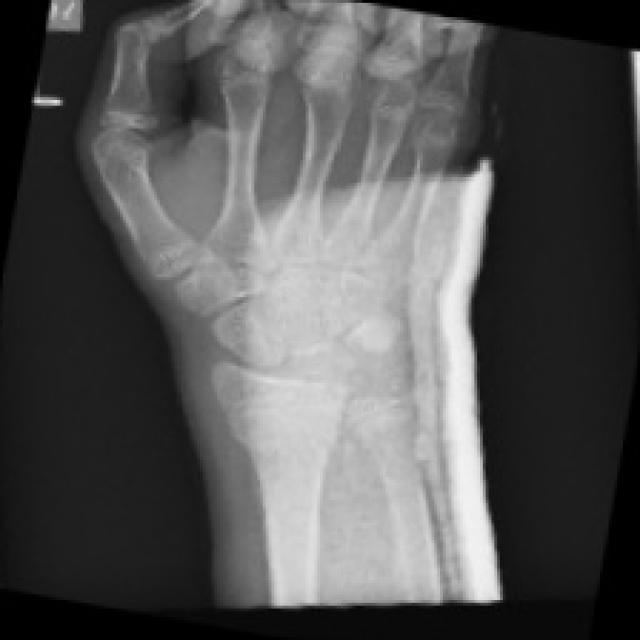fracture: (78, 86, 171, 170)
